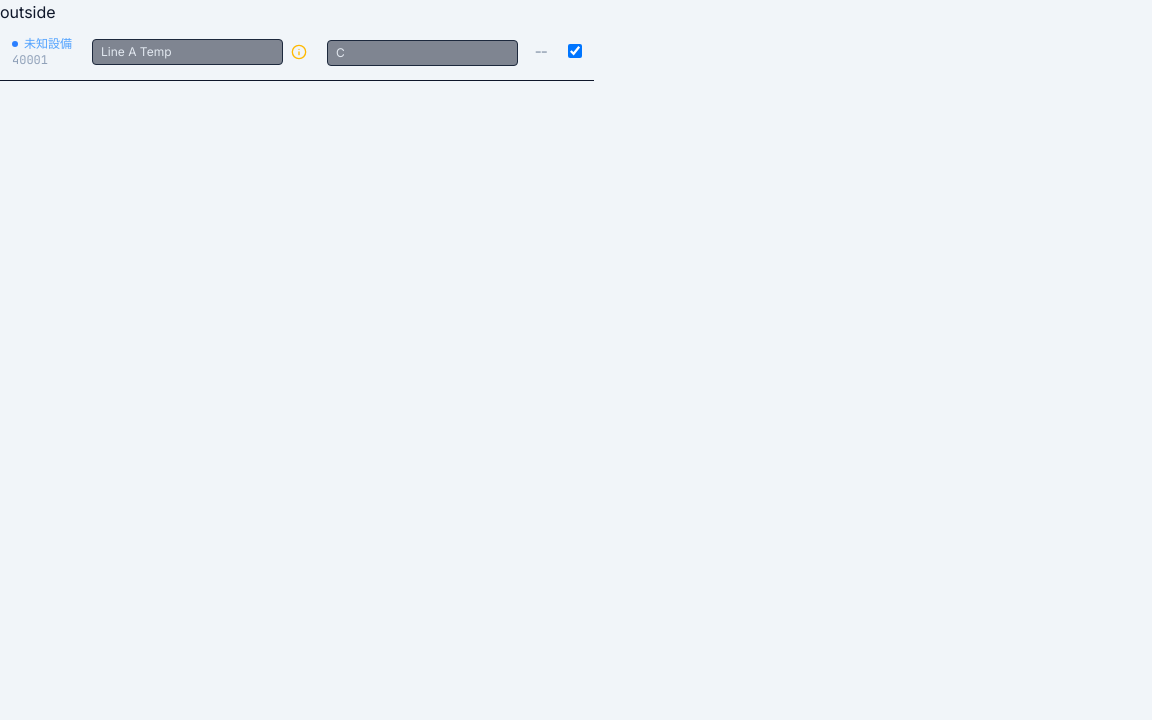
Test: uses a status-specific icon for saving
Focus the button named "儲存中" at point(299, 52), box [287,40,311,64]
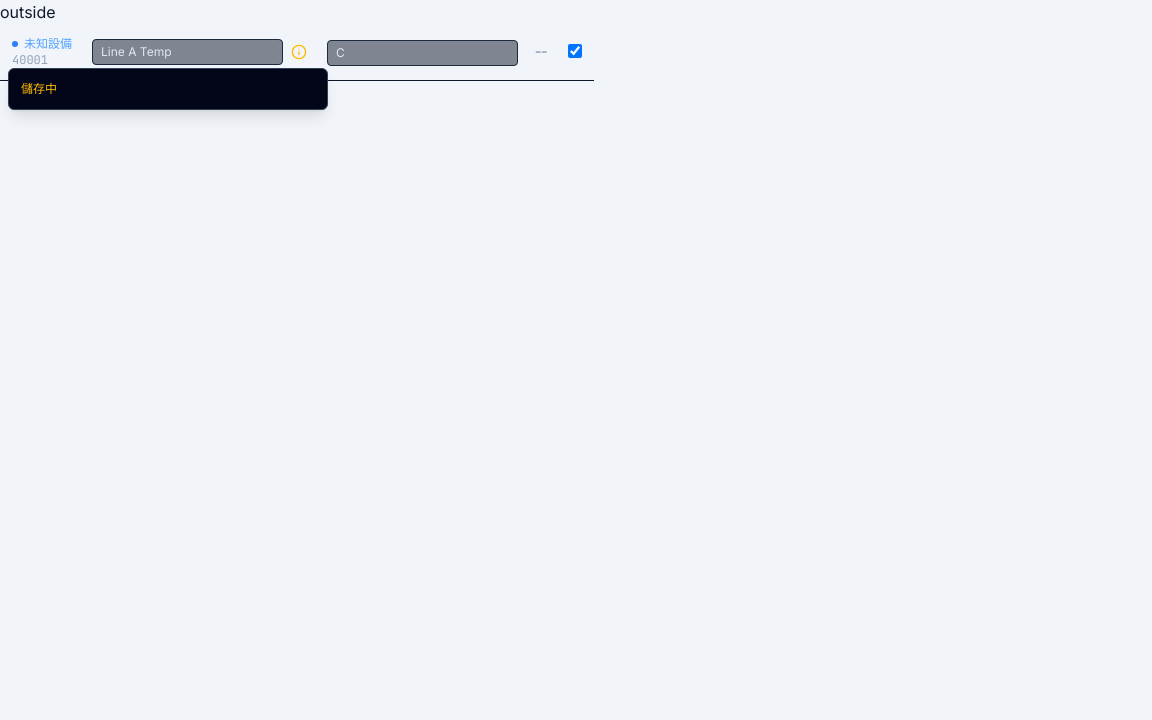
expect the dialog is shown: met, box [8,68,328,110]
